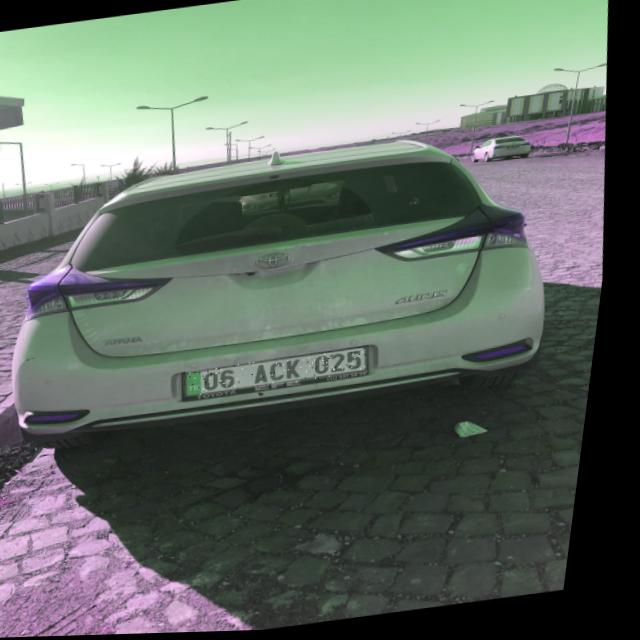license_plate: (192, 349, 380, 398)
